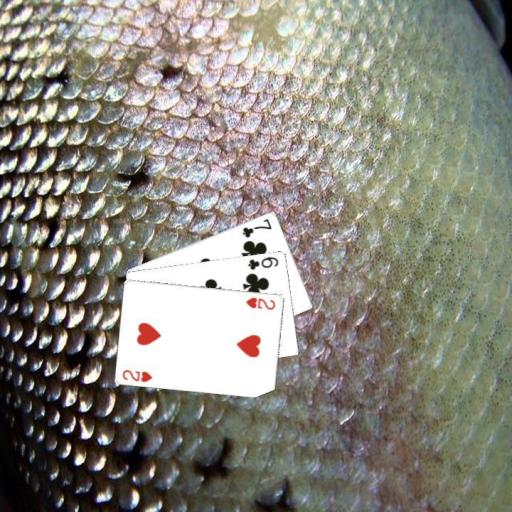2H: (243, 294, 278, 311), (120, 367, 155, 384)
6C: (246, 253, 281, 271)
7C: (239, 215, 273, 239)
